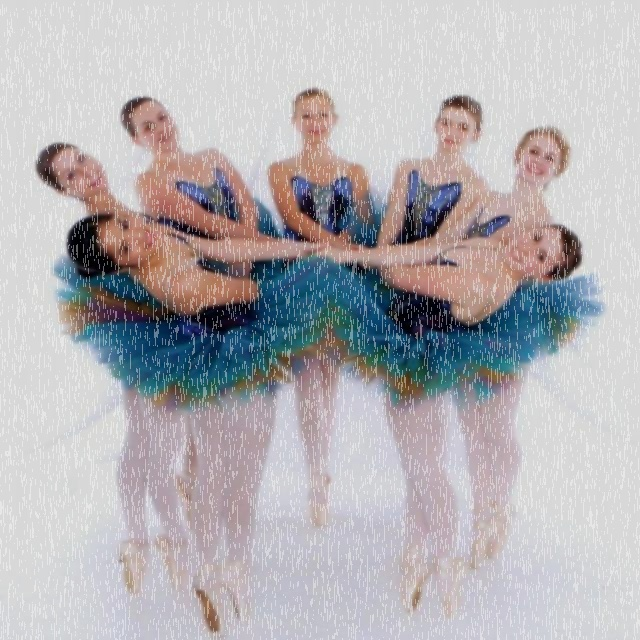pessoa: (58, 202, 334, 639), (310, 219, 604, 623), (118, 93, 317, 533), (310, 92, 493, 570), (33, 136, 191, 597), (419, 124, 574, 574), (262, 83, 390, 543)
